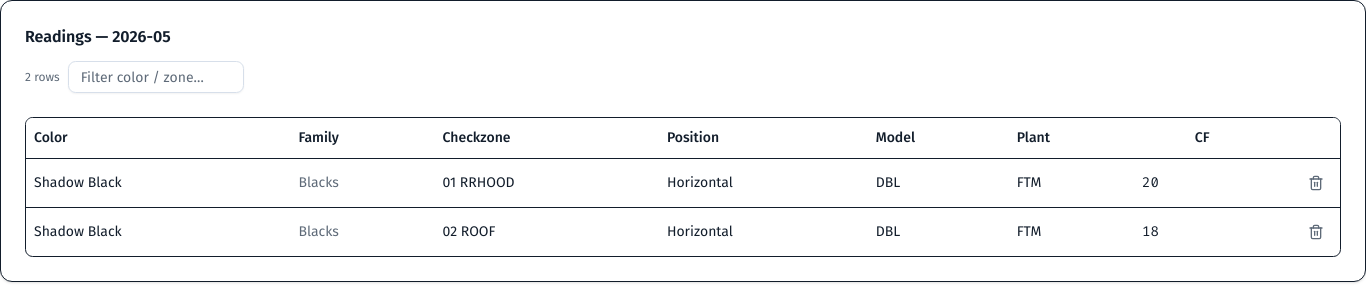
editing CF commits via api.updateReading and updates the row
This screenshot has width=1366, height=300.
Click the button "20" at (1176, 182), box [1138,170,1214,194]
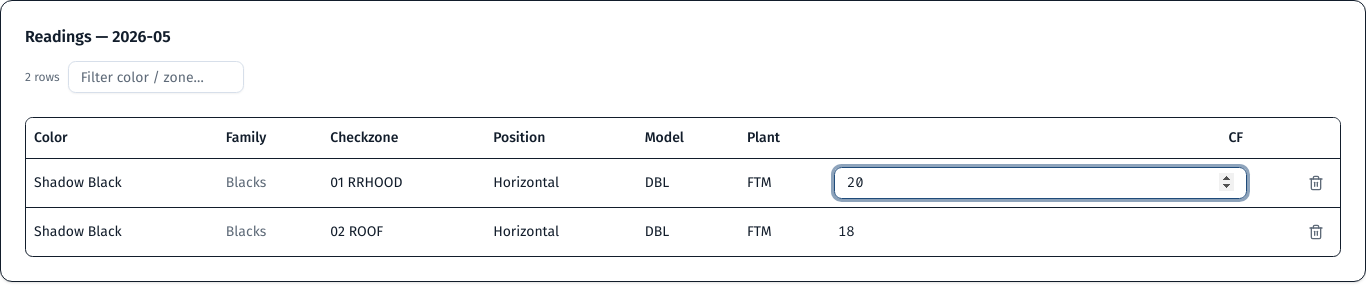
Replace the text in the number field with "12.3" at (1041, 182), box [834,166,1247,198]
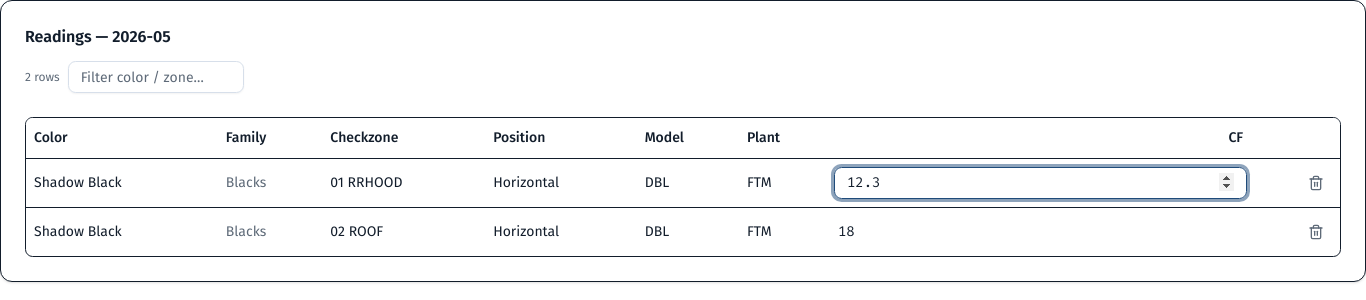
Press Enter
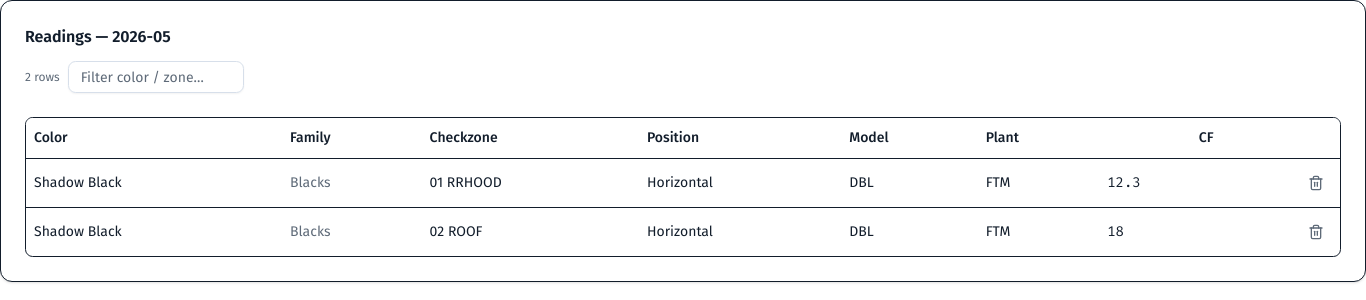
Expected: the button "12.3" is shown, [1103,170,1218,194]
